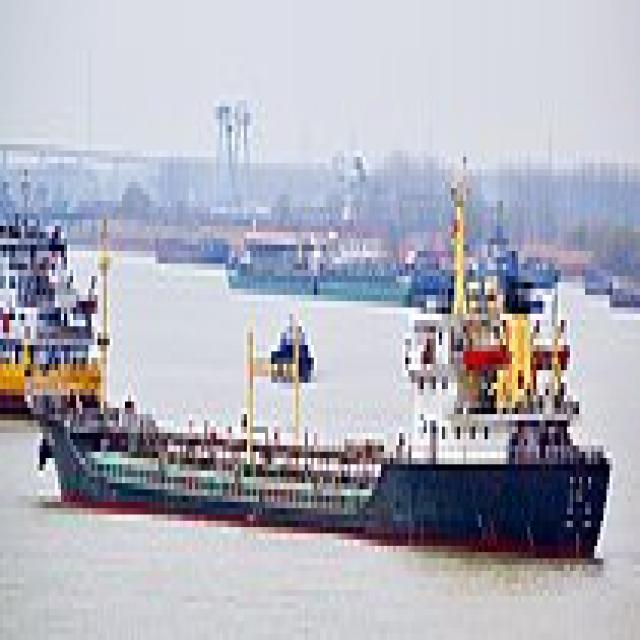Tanker: (30, 295, 616, 565)
